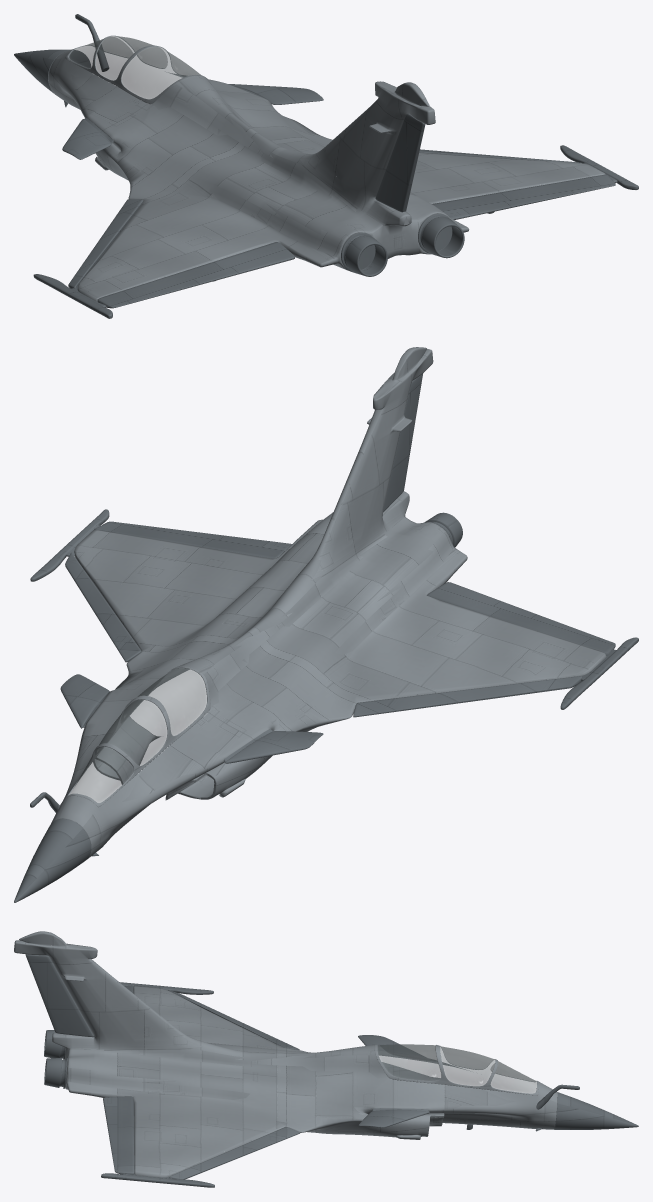
The model's file is rafale.glb.
3 views of the same model, one above another, from view 1: azimuth 30°, elevation 25°; view 2: azimuth 150°, elevation 25°; view 3: azimuth 270°, elevation 25° (orthographic). The views are drawn at different scales.
Parts seen in each view (by area): view 1: aircraft; view 2: aircraft; view 3: aircraft.
Boxes of the visible parts, bbox=[...] form: aircraft: bbox=[14, 14, 638, 318]; aircraft: bbox=[14, 347, 638, 902]; aircraft: bbox=[14, 931, 638, 1187].
Size of the model in its own units: 134 by 64.01 by 182.
3 materials, 3 textured.
